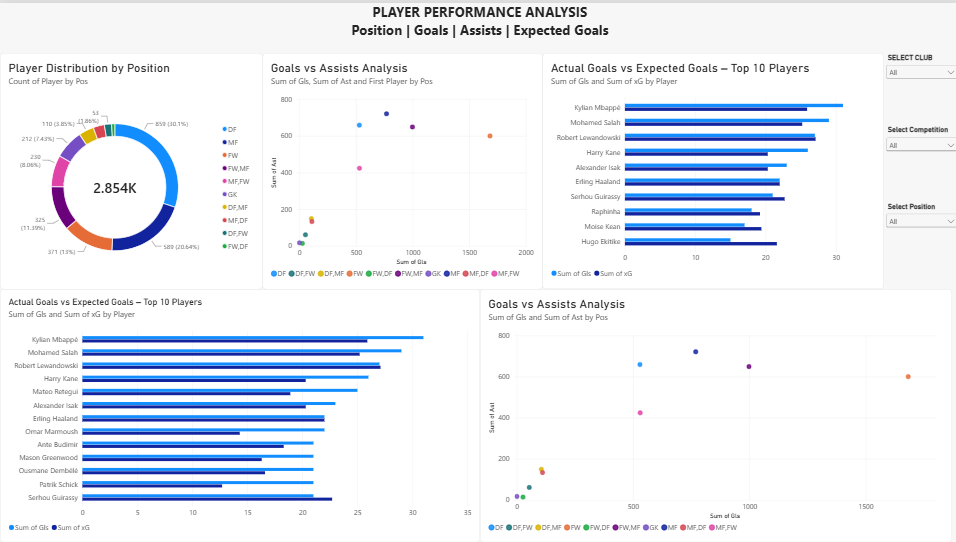

The page's visual inventory and layout, read from the dashboard file:
{"tool":"powerbi","page":{"name":"Player Performance Analysis","canvas":[1920,1080],"ordinal":1},"visuals":[{"type":"textbox","box":[0,0,1920,100],"z":0},{"type":"donutChart","title":"Player Distribution by Position","fields":{"Category":["football_players_cleaned.Pos"],"Y":["CountNonNull(football_players_cleaned.Player)"]},"box":[0,100,525,472.5],"z":1000},{"type":"scatterChart","title":"Goals vs Assists Analysis","fields":{"Series":["football_players_cleaned.Pos"],"X":["Sum(football_players_cleaned.Gls)"],"Y":["Sum(football_players_cleaned.Ast)"]},"box":[525,100,560,472.5],"z":2000},{"type":"clusteredBarChart","title":"Actual Goals vs Expected Goals – Top 10 Players","fields":{"Category":["football_players_cleaned.Player"],"Y":["Sum(football_players_cleaned.Gls)","Sum(football_players_cleaned.xG)"]},"box":[0,572,960,508],"z":3000},{"type":"scatterChart","title":"Goals vs Assists Analysis","fields":{"Series":["football_players_cleaned.Pos"],"X":["Sum(football_players_cleaned.Gls)"],"Y":["Sum(football_players_cleaned.Ast)"]},"box":[960,572,944,508],"z":4000},{"type":"clusteredBarChart","title":"Actual Goals vs Expected Goals – Top 10 Players","fields":{"Category":["football_players_cleaned.Player"],"Y":["Sum(football_players_cleaned.Gls)","Sum(football_players_cleaned.xG)"]},"box":[1085.2,100.2,682.4,471.7],"z":5000},{"type":"slicer","fields":{"Values":["football_players_cleaned.Squad"]},"box":[1767.7,100.2,152.3,144],"z":5001},{"type":"slicer","fields":{"Values":["football_players_cleaned.Comp"]},"box":[1767.7,244.2,152.3,152.3],"z":5002},{"type":"slicer","fields":{"Values":["football_players_cleaned.Pos"]},"box":[1767.7,396.5,152.3,175.3],"z":5003}]}

Visuals, with their boxes in screenshot pixels (x1, y1, x2, y2), scaled from the page's 1920x1080 canvas onto the 956x542 screenshot:
textbox: detection(0, 0, 955, 50)
"Player Distribution by Position" donutChart: detection(0, 50, 261, 287)
"Goals vs Assists Analysis" scatterChart: detection(261, 50, 540, 287)
"Actual Goals vs Expected Goals – Top 10 Players" clusteredBarChart: detection(0, 287, 478, 541)
"Goals vs Assists Analysis" scatterChart: detection(478, 287, 948, 541)
"Actual Goals vs Expected Goals – Top 10 Players" clusteredBarChart: detection(540, 50, 880, 287)
slicer - football_players_cleaned.Squad: detection(880, 50, 955, 123)
slicer - football_players_cleaned.Comp: detection(880, 123, 955, 199)
slicer - football_players_cleaned.Pos: detection(880, 199, 955, 287)
